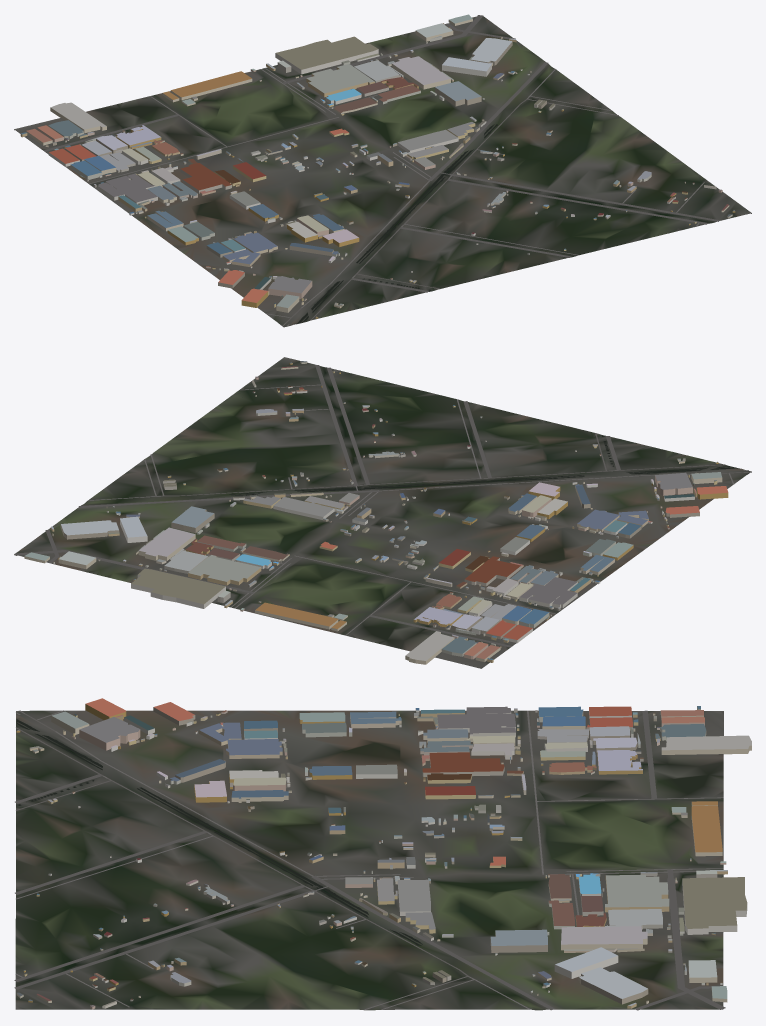
3 views of the same model, one above another, from view 1: azimuth 30°, elevation 25°; view 2: azimuth 150°, elevation 25°; view 3: azimuth 270°, elevation 25° (orthographic). The views are drawn at different scales.
Visible parts, largest first — view 1: ground, buildings, roads, water; view 2: ground, buildings, roads, water; view 3: ground, buildings, roads, water.
Part boxes in pixels (x1=…): ground: x1=14, y1=15, x2=751, y2=327; buildings: x1=20, y1=14, x2=735, y2=318; roads: x1=43, y1=15, x2=719, y2=326; water: x1=297, y1=124, x2=497, y2=323; ground: x1=14, y1=357, x2=751, y2=668; buildings: x1=24, y1=361, x2=728, y2=664; roads: x1=15, y1=365, x2=750, y2=647; water: x1=229, y1=436, x2=737, y2=495; ground: x1=15, y1=710, x2=723, y2=1010; buildings: x1=16, y1=698, x2=751, y2=1009; roads: x1=14, y1=710, x2=725, y2=1010; water: x1=16, y1=719, x2=422, y2=945.
Bounding box in the file's own units: 1433 × 21.22 × 1460.
